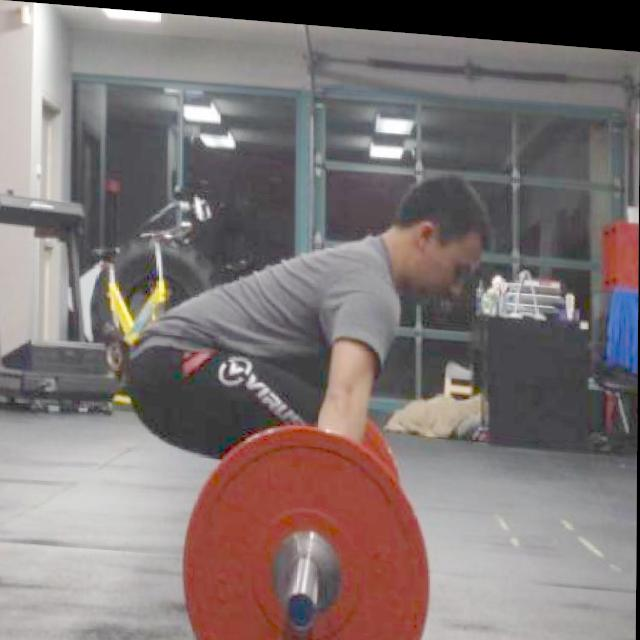barbell: (177, 408, 439, 640)
